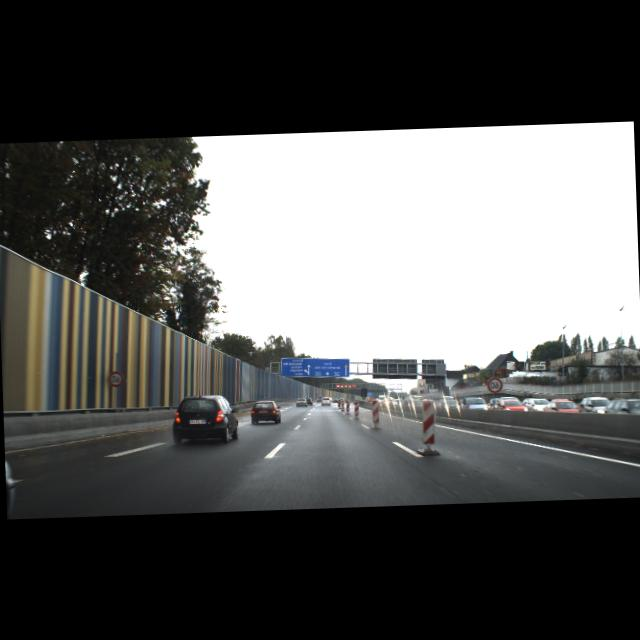prohibitory: (106, 369, 124, 386), (486, 376, 503, 394)
